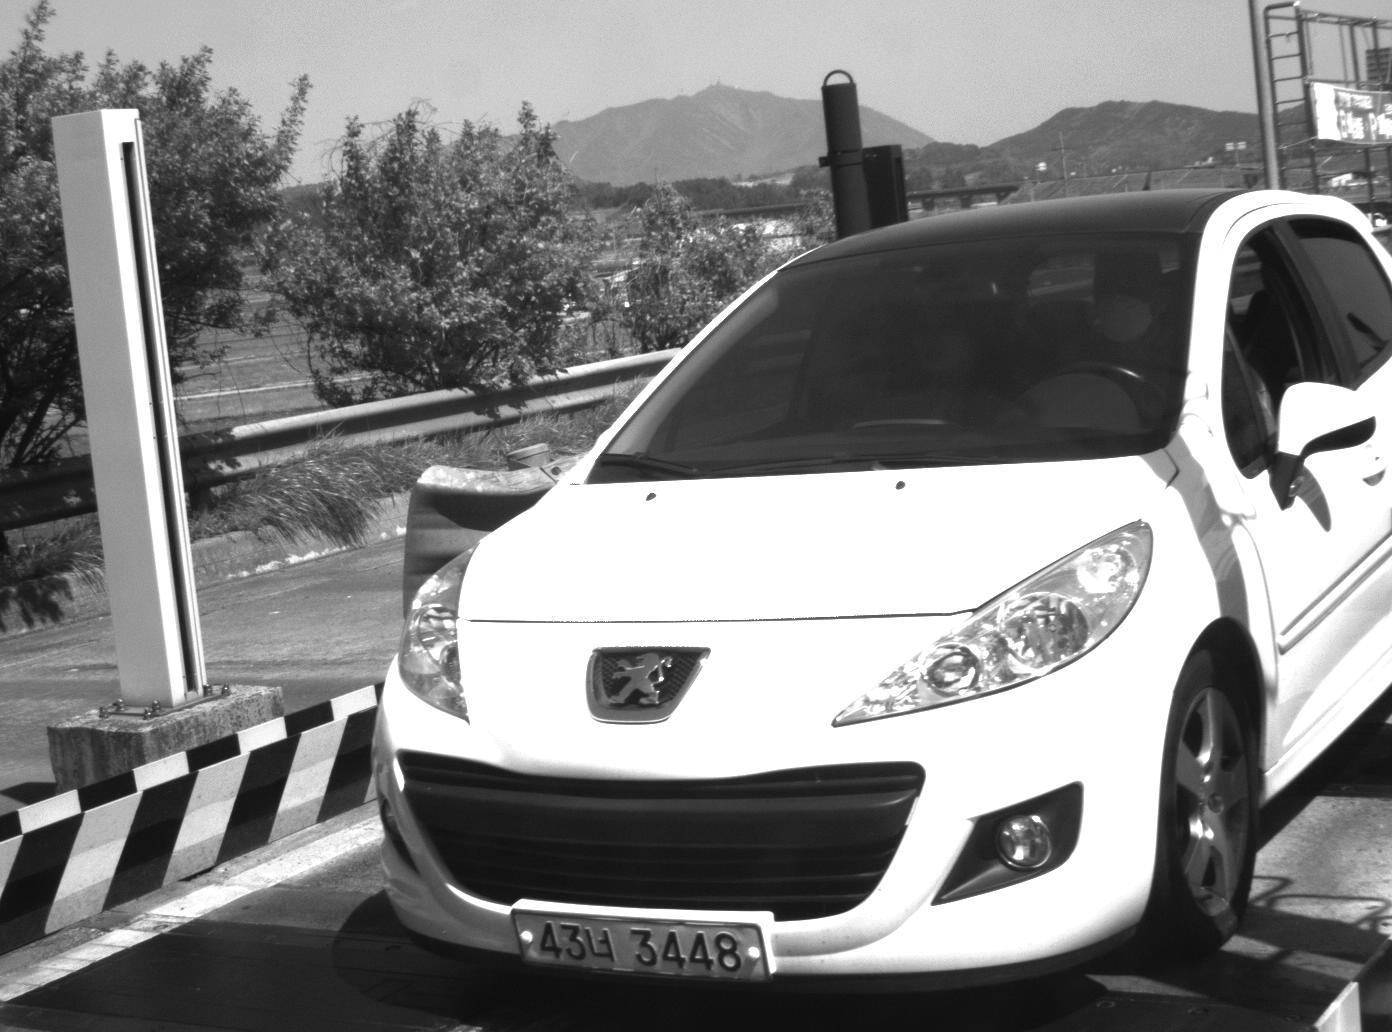car: (361, 182, 1392, 987)
plate: (507, 904, 777, 984)
